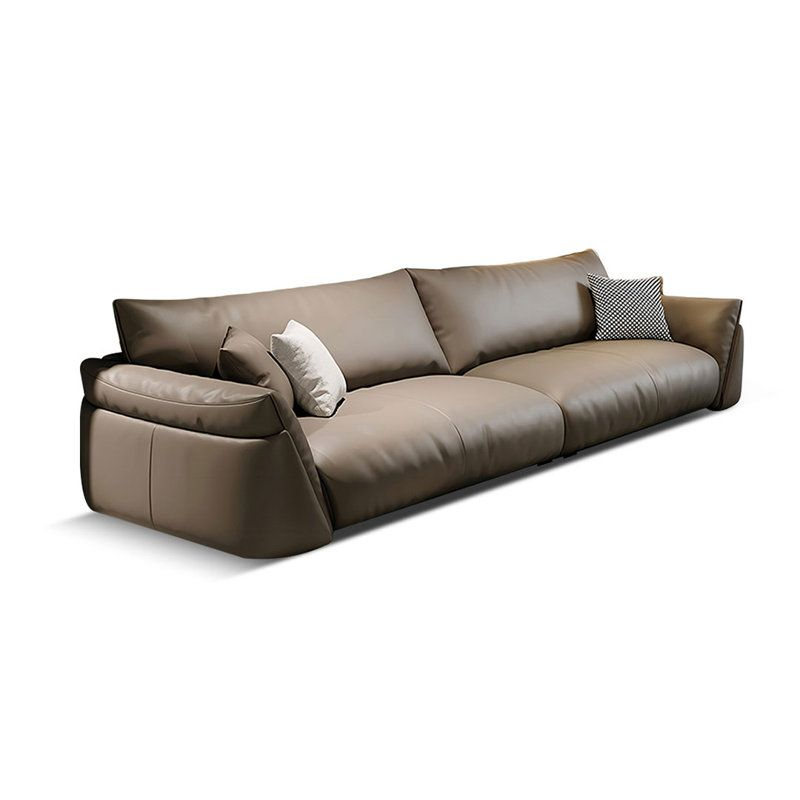3seatersofa: (81, 249, 743, 557)
backrest: (114, 250, 604, 388)
leftarmrest: (663, 296, 743, 409)
pillow: (217, 320, 345, 415), (588, 273, 672, 340)
rightarmrest: (81, 358, 330, 557)
seat: (302, 342, 716, 524)
